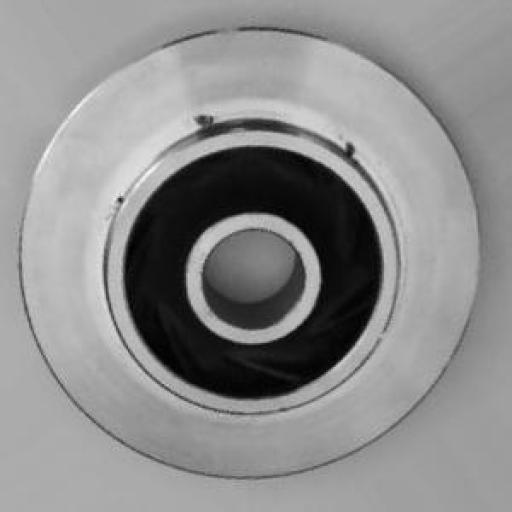defect: (136, 79, 408, 188)
